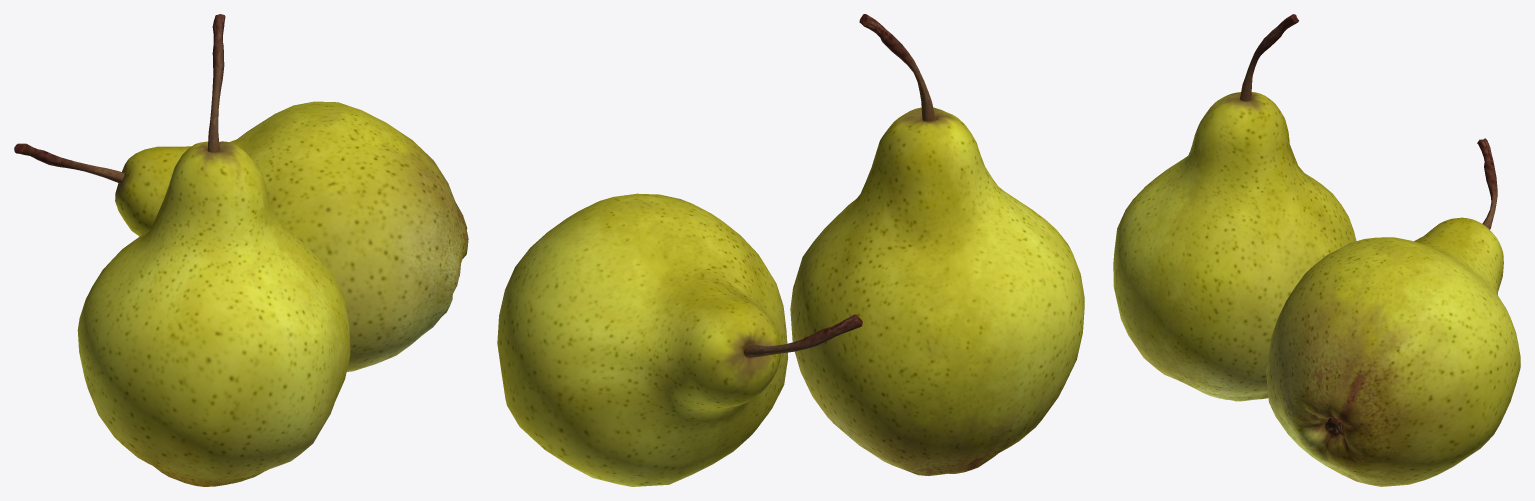
The model's file is green_pears3.dae.
The picture shows the model from 3 angles, left to right: view 1: azimuth 30°, elevation 25°; view 2: azimuth 150°, elevation 25°; view 3: azimuth 270°, elevation 25°; orthographic projection. The views are drawn at different scales.
Visible parts, largest first — view 1: pear_002, pear_001; view 2: pear_002, pear_001; view 3: pear_001, pear_002.
Boxes of the visible parts, x1,y1,x2,y2 form: pear_002: (77, 14, 350, 486); pear_001: (14, 101, 468, 371); pear_002: (790, 14, 1084, 475); pear_001: (497, 193, 862, 486); pear_001: (1266, 138, 1520, 486); pear_002: (1113, 14, 1356, 401).
Size of what is drawn, in the model's own units: 6.06 by 5.4 by 5.69.
Materials: 3 (3 with a texture image).
